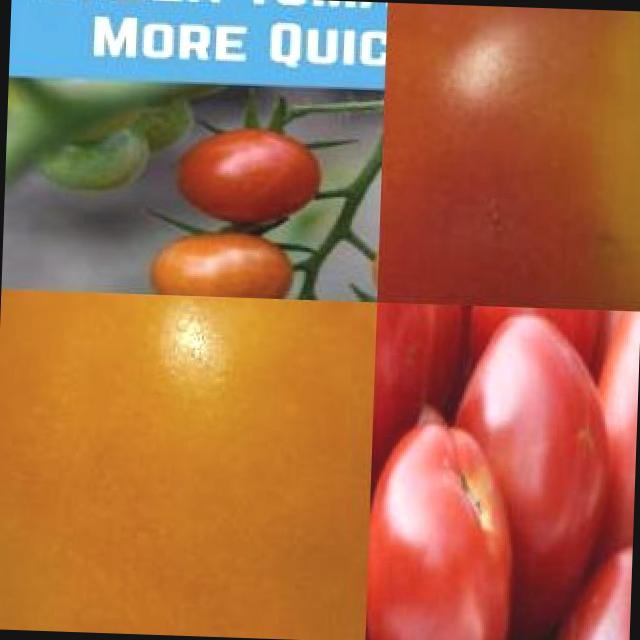Fresh_Tomato: (0, 289, 377, 640), (377, 2, 640, 311), (442, 316, 616, 626), (364, 418, 518, 640), (365, 350, 465, 640), (579, 309, 640, 617), (466, 306, 598, 448), (161, 116, 325, 230), (370, 302, 453, 494), (365, 465, 451, 640), (372, 302, 479, 439), (370, 302, 450, 482), (140, 218, 300, 299), (372, 302, 464, 431), (374, 302, 476, 407), (548, 538, 632, 640), (578, 309, 640, 439), (372, 302, 434, 420)
